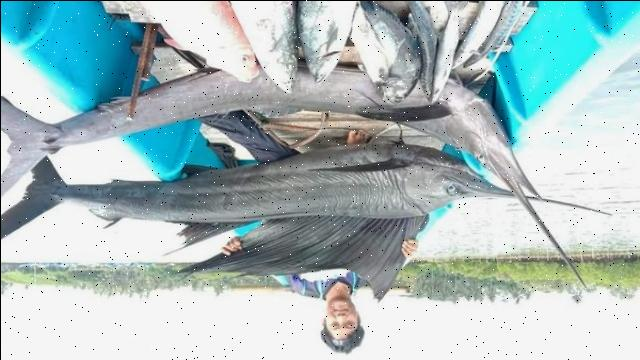Mulut: (486, 148, 596, 290)
Sirip Anal: (82, 167, 140, 233)
Sirip Dada: (342, 92, 458, 134), (298, 141, 417, 181)
Sirip Ekor: (0, 147, 72, 251)
Sirip Punggung: (171, 209, 437, 305)
